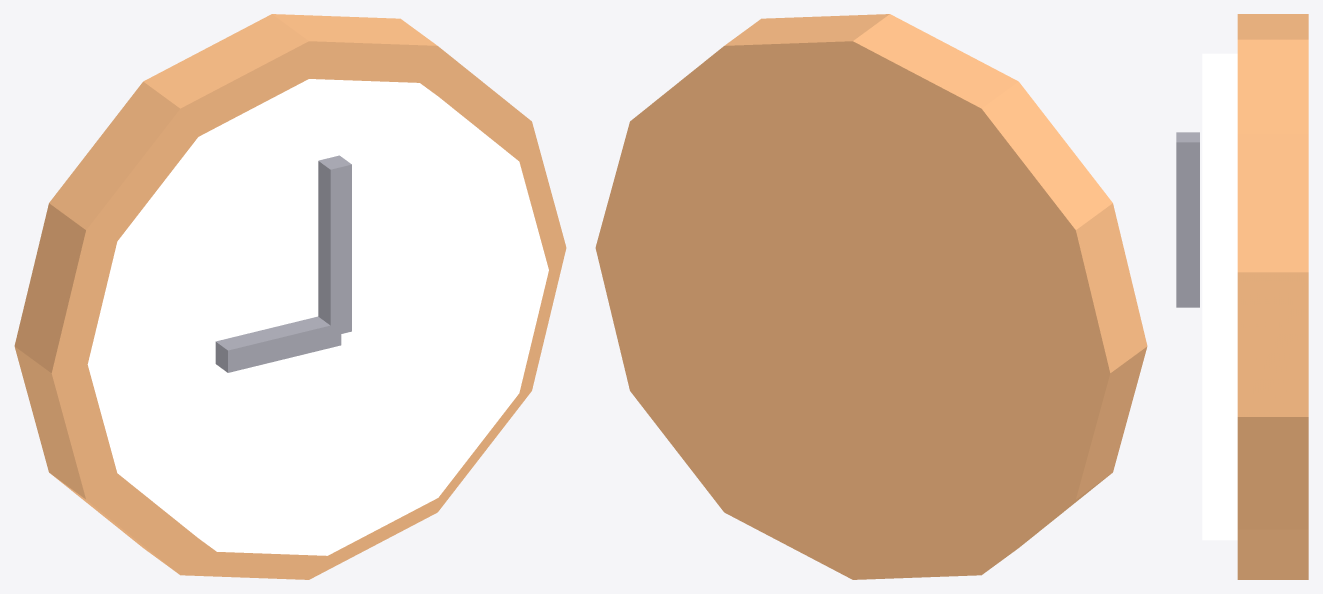
3 views of the same model, side by side, from view 1: azimuth 30°, elevation 25°; view 2: azimuth 150°, elevation 25°; view 3: azimuth 270°, elevation 25° (orthographic). The views are drawn at different scales.
Visible parts, largest first — view 1: Clock_Face, Clock_Rim, Clock_Hands; view 2: Clock_Rim; view 3: Clock_Rim, Clock_Face, Clock_Hands.
Boxes of the visible parts, left/top/right/bottom form: Clock_Face: left=87, top=79, right=548, bottom=555; Clock_Rim: left=14, top=14, right=566, bottom=579; Clock_Hands: left=215, top=155, right=351, bottom=372; Clock_Rim: left=595, top=14, right=1147, bottom=579; Clock_Rim: left=1237, top=14, right=1308, bottom=579; Clock_Face: left=1202, top=53, right=1237, bottom=540; Clock_Hands: left=1176, top=132, right=1199, bottom=307.
Size of the model in its own units: 0.48 by 0.48 by 0.112.
